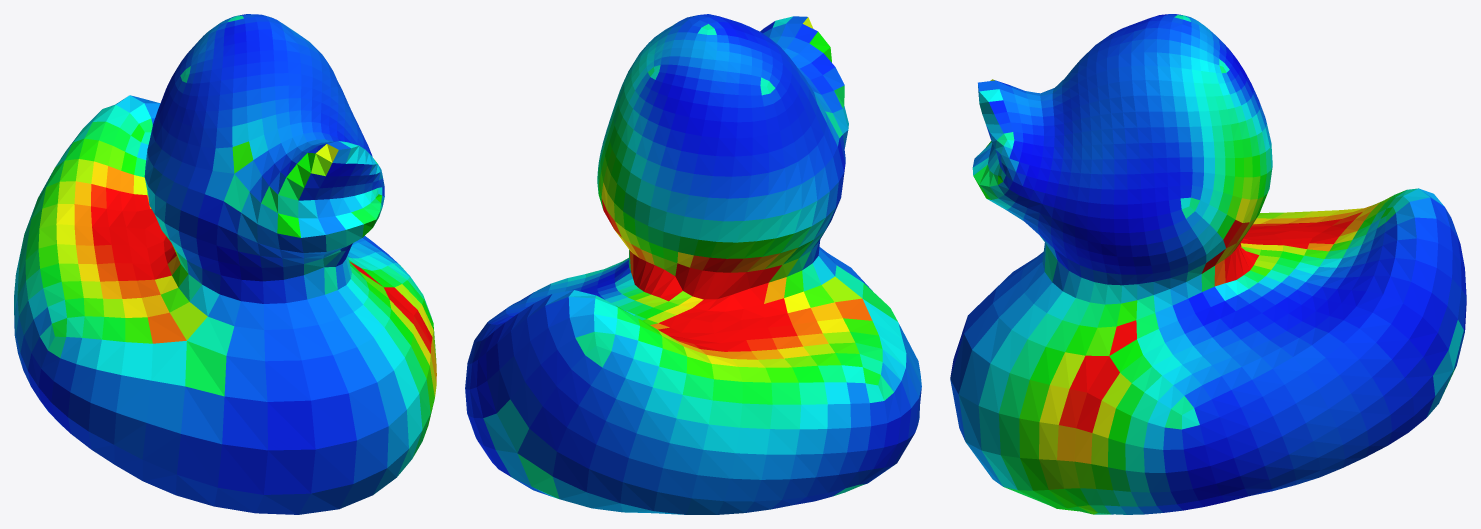
The model's file is duck_quad2_no_opt_quality.obj.
The picture shows the model from 3 angles, left to right: view 1: azimuth 30°, elevation 25°; view 2: azimuth 150°, elevation 25°; view 3: azimuth 270°, elevation 25°; orthographic projection. The views are drawn at different scales.
Size of the model in its own units: 70.26 by 78.74 by 82.44.
